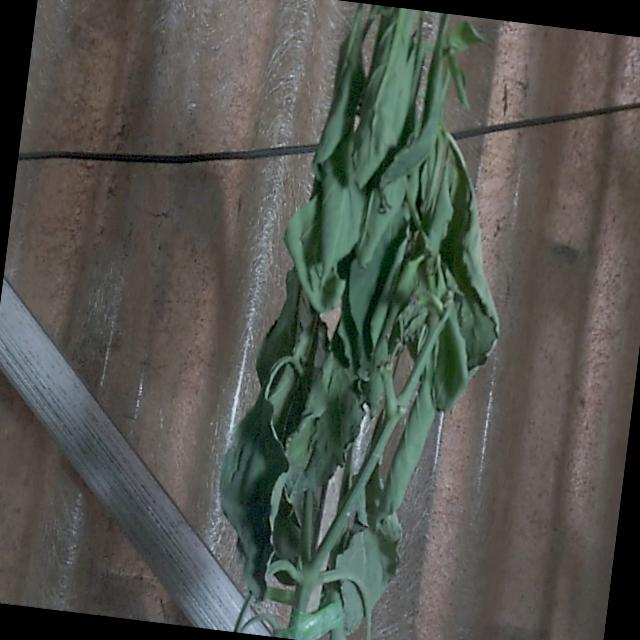Leaf: (220, 396, 287, 598), (352, 8, 418, 189), (373, 359, 436, 521), (314, 6, 365, 166), (336, 529, 398, 634), (446, 21, 482, 52)
